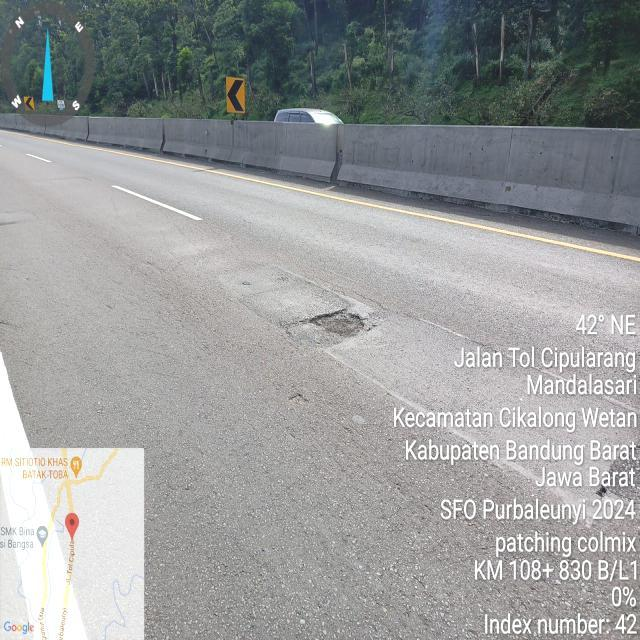Buraco: (296, 307, 381, 340)
